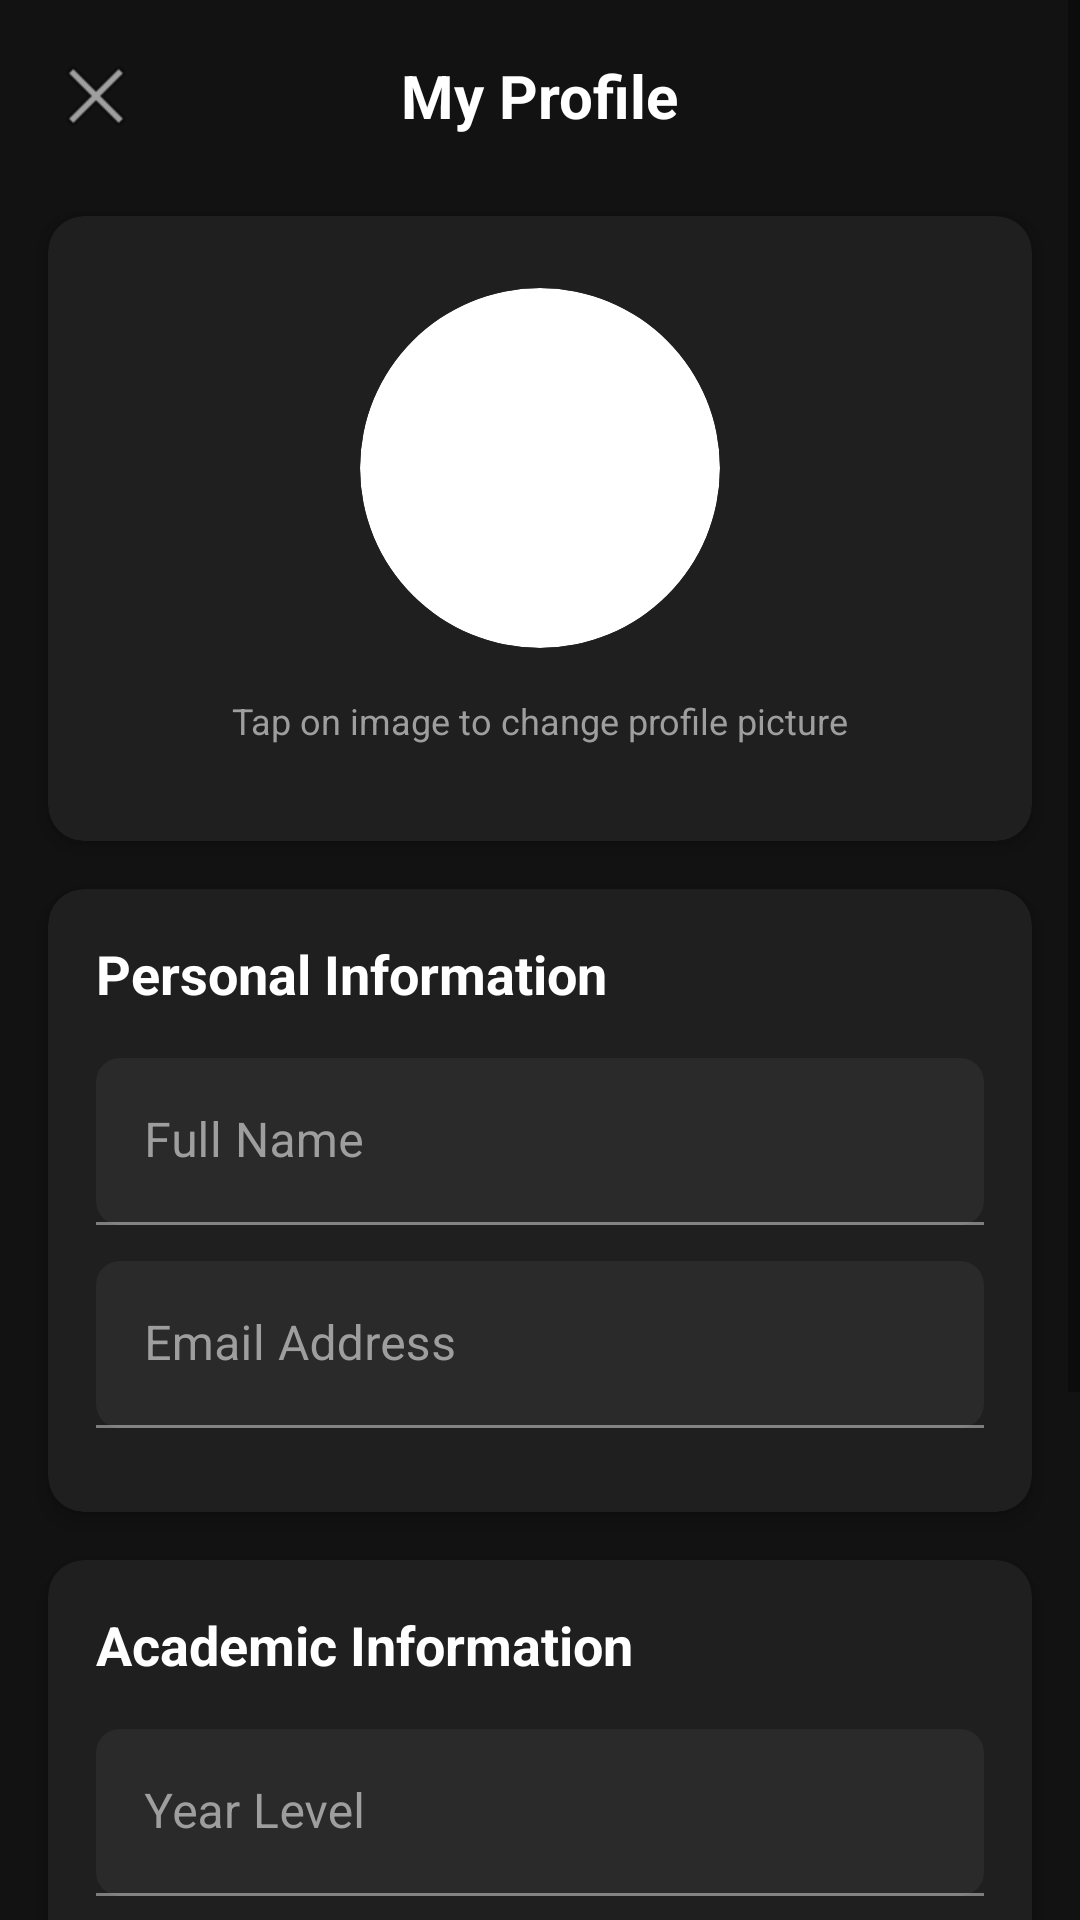

Icons on this 1080 × 1920 Android screen, each with the point to tap as point (x, y):
Back: point (96, 96)
